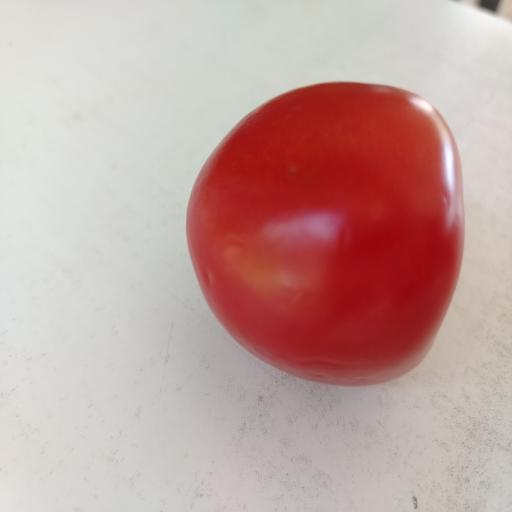ripe: (187, 82, 464, 385)
